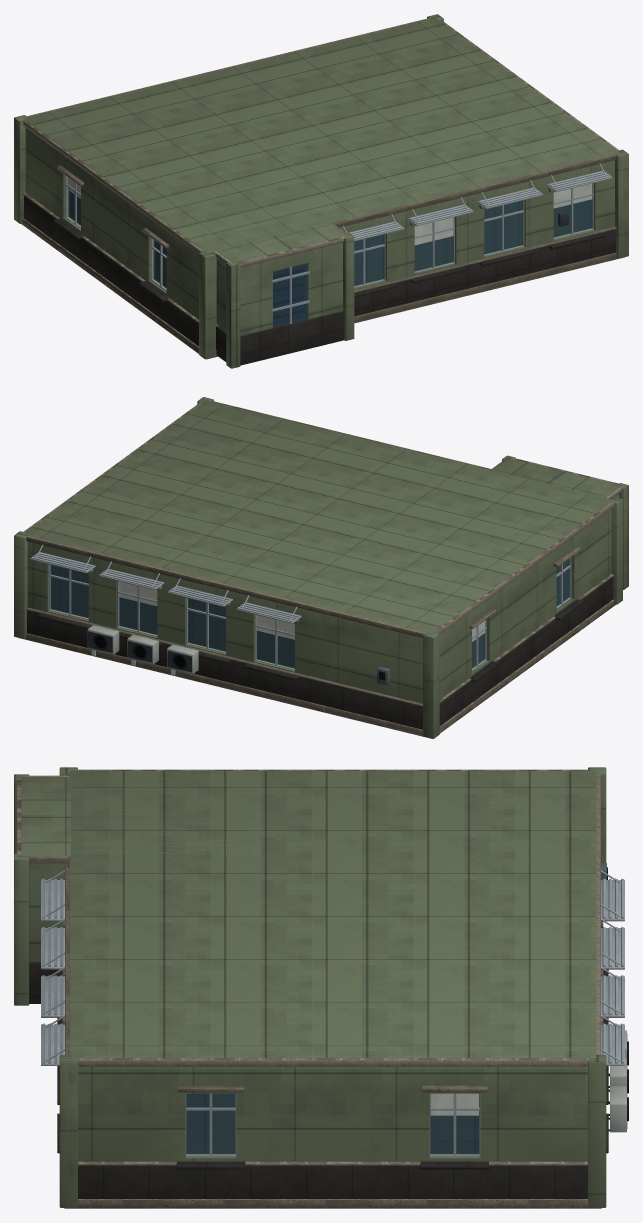
The model's file is fac_floor.glb.
3 renders of one model, top to bottom at view 1: azimuth 30°, elevation 25°; view 2: azimuth 150°, elevation 25°; view 3: azimuth 270°, elevation 25°, orthographic. The views are drawn at different scales.
Parts seen in each view (by area): view 1: FAC_FLOOR; view 2: FAC_FLOOR; view 3: FAC_FLOOR.
Boxes of the visible parts, x1,y1,x2,y2 form: FAC_FLOOR: (14,14,628,368); FAC_FLOOR: (14,397,628,738); FAC_FLOOR: (14,767,628,1208).
Size of the model in its own units: 13.86 by 3.24 by 12.11.
15 materials, 11 textured.
